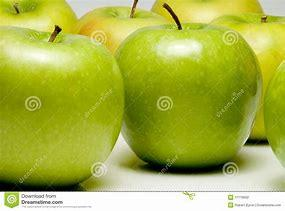apple: (111, 20, 260, 171), (0, 24, 129, 191)
